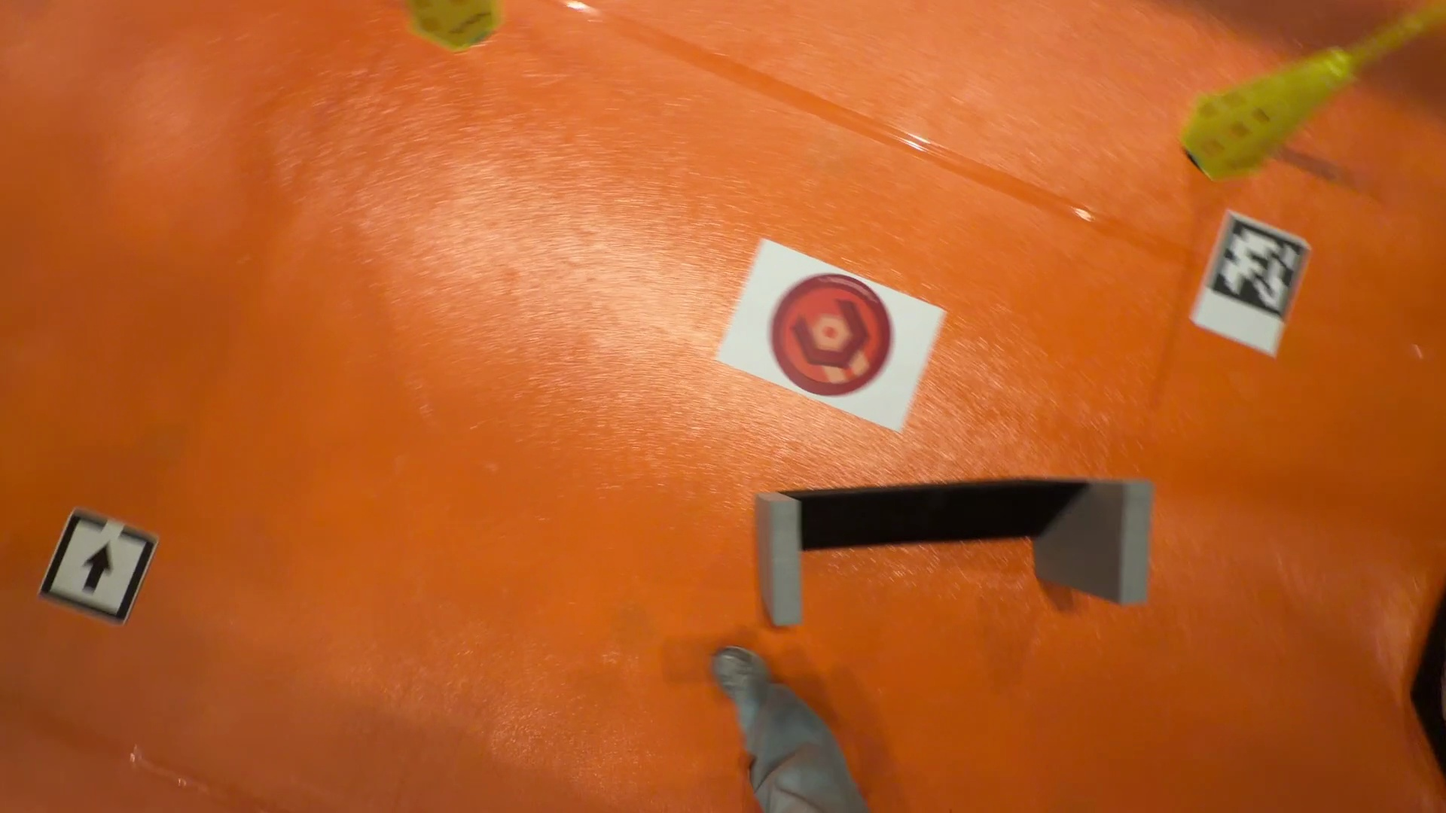landing_pad: (766, 275, 895, 398)
